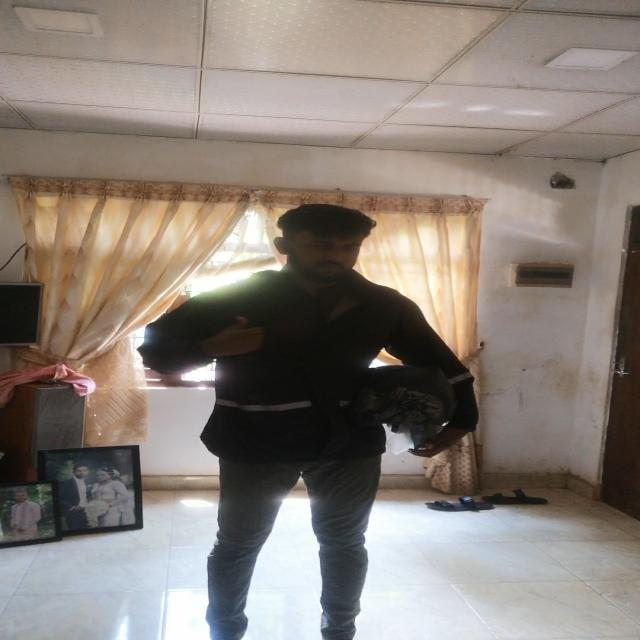Jacket_Wearer: (145, 264, 482, 478)
Person: (138, 203, 472, 640)
